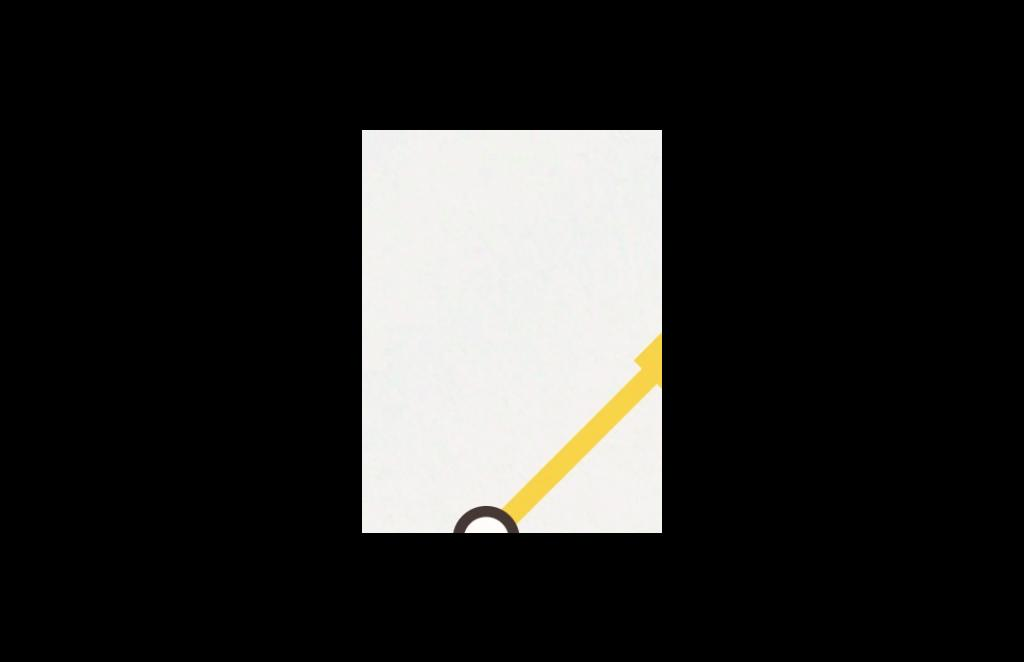connected_station: (451, 496, 537, 532)
train: (637, 297, 662, 404)
